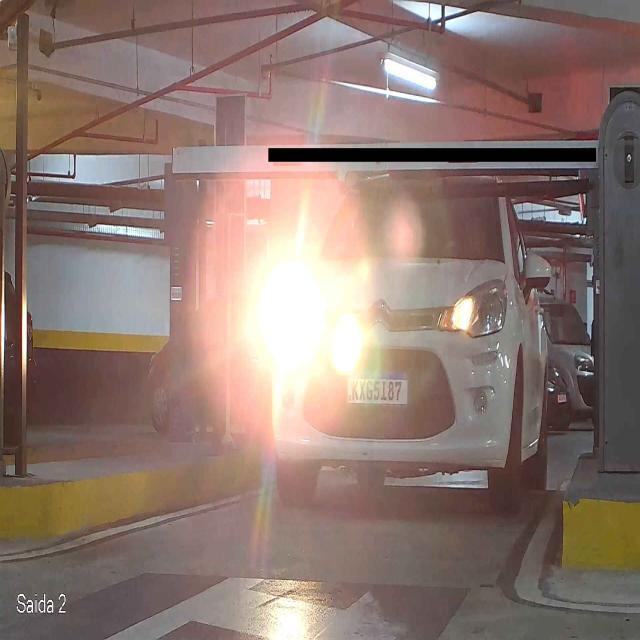mercosul_plate: (346, 370, 411, 407)
